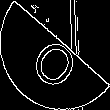O_NE: (25, 22, 85, 88)
